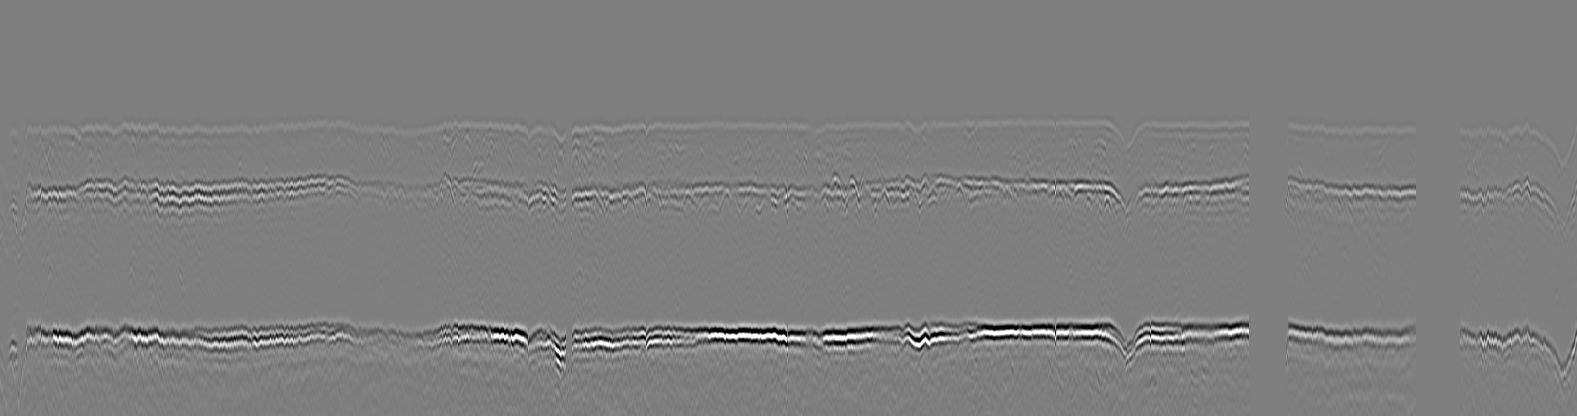fault: (1234, 172, 1303, 247), (1407, 178, 1468, 255), (1231, 97, 1298, 164), (1405, 95, 1464, 169), (523, 176, 583, 240), (1094, 101, 1151, 167), (1094, 177, 1149, 234), (1536, 99, 1577, 175), (2, 181, 47, 247), (1535, 185, 1577, 246), (545, 105, 586, 163), (7, 105, 37, 164)
